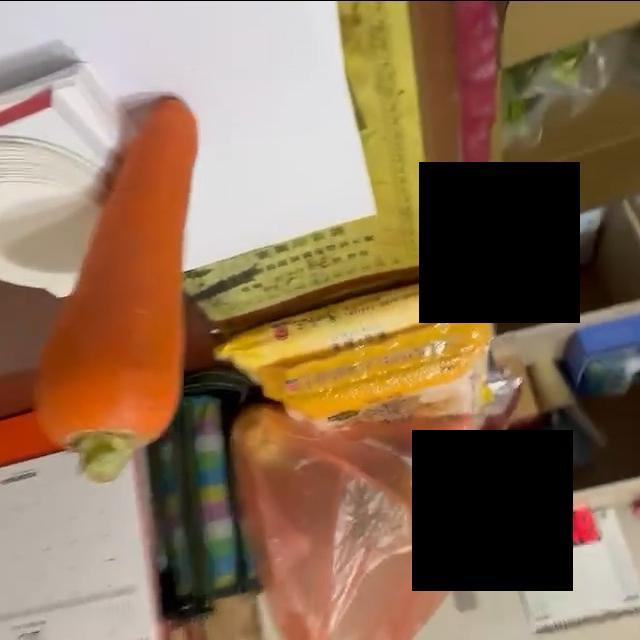carrot: (38, 97, 206, 477)
